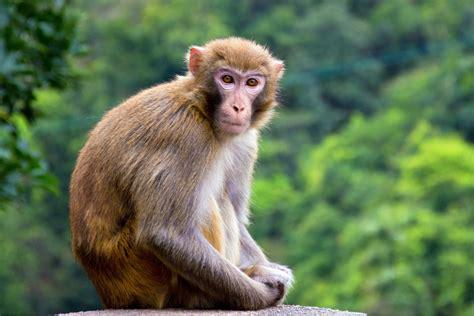monkey: (71, 37, 289, 309)
